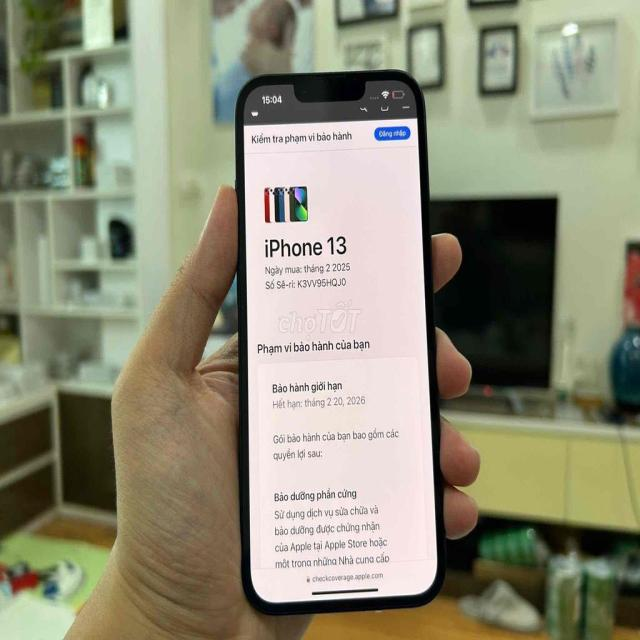gen_12_13: (234, 66, 448, 617)
